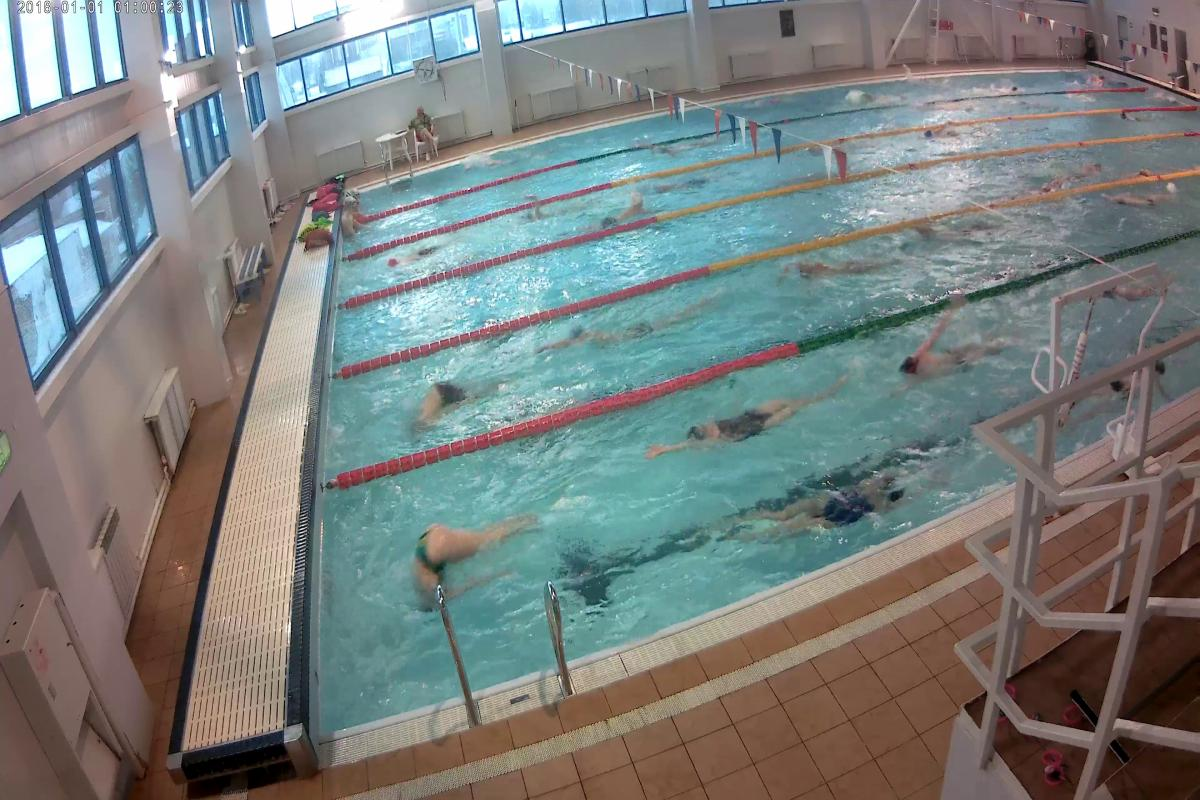swimmer: (647, 374, 846, 456), (400, 509, 526, 605), (536, 302, 706, 356), (772, 470, 904, 538), (878, 325, 1008, 391), (400, 375, 489, 434), (781, 251, 895, 290), (1114, 185, 1194, 221), (934, 216, 1060, 238), (362, 232, 456, 261), (588, 191, 653, 232), (915, 124, 969, 149)
